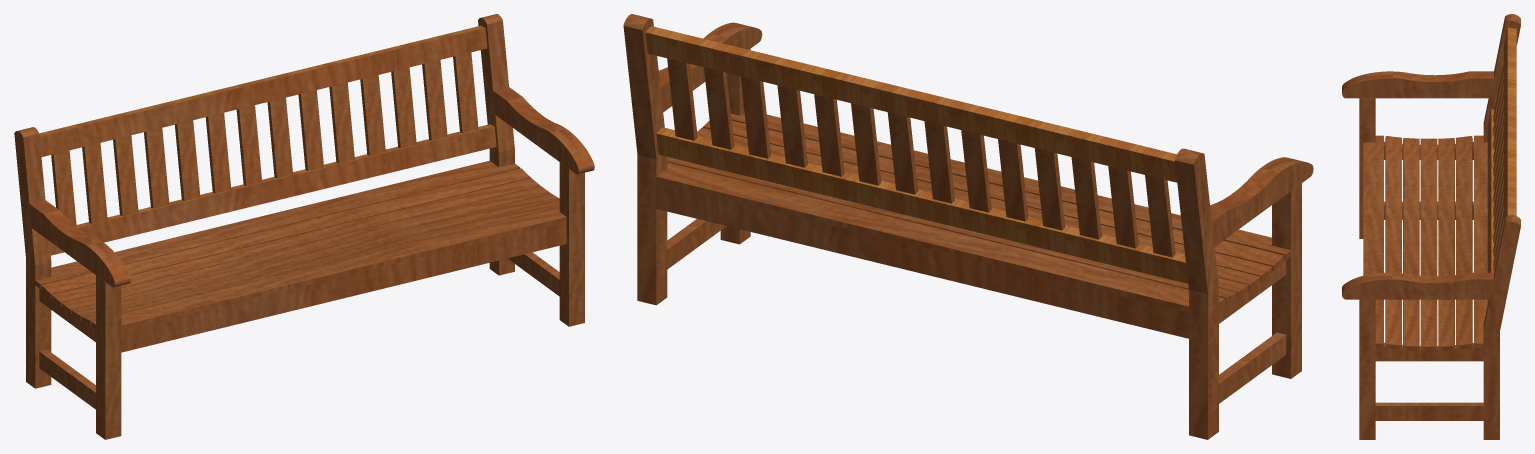
Rendered from bench.glb.
3 renders of one model, left to right at view 1: azimuth 30°, elevation 25°; view 2: azimuth 150°, elevation 25°; view 3: azimuth 270°, elevation 25°, orthographic. The views are drawn at different scales.
Visible parts, largest first — view 1: seat slat (×5), back vertical slat (×14), back stretch 6ft (×2), 6ft bottom rung, Merged End York - Mendip 80 incline (×2), Component#6 (×2), 6ft front, back 6ft, Arm contoured (×2), Component#3 (×2), seat rack; view 2: back stretch 6ft (×2), back vertical slat (×14), Merged End York - Mendip 80 incline (×2), 6ft bottom rung, back 6ft, seat slat (×3), Arm contoured (×2), Component#6 (×2), 6ft front, Component#3 (×2), seat rack; view 3: seat slat (×5), Arm contoured (×2), Merged End York - Mendip 80 incline (×2), Component#6 (×2), back stretch 6ft (×2), 6ft front, back 6ft, Component#3, seat rack.
Boxes of the visible parts, box(x1,y1,x2,y2) form: seat slat (×5): box(41, 168, 559, 325); back vertical slat (×14): box(51, 52, 478, 226); back stretch 6ft (×2): box(39, 25, 496, 255); 6ft bottom rung: box(121, 221, 566, 352); Merged End York - Mendip 80 incline (×2): box(14, 14, 514, 388); Component#6 (×2): box(96, 162, 584, 439); 6ft front: box(91, 207, 566, 330); back 6ft: box(35, 160, 520, 288); Arm contoured (×2): box(29, 87, 594, 287); Component#3 (×2): box(39, 252, 559, 409); seat rack: box(39, 288, 95, 341); back stretch 6ft (×2): box(645, 26, 1188, 283); back vertical slat (×14): box(667, 58, 1175, 257); Merged End York - Mendip 80 incline (×2): box(623, 14, 1218, 439); 6ft bottom rung: box(656, 182, 1188, 338); back 6ft: box(656, 162, 1225, 312); seat slat (×3): box(667, 120, 1284, 303); Arm contoured (×2): box(658, 22, 1313, 246); Component#6 (×2): box(720, 49, 1301, 378); 6ft front: box(731, 112, 1290, 259); Component#3 (×2): box(667, 219, 1286, 403); seat rack: box(1219, 260, 1286, 323); seat slat (×5): box(1385, 136, 1472, 350); Arm contoured (×2): box(1342, 71, 1493, 299); Merged End York - Mendip 80 incline (×2): box(1483, 14, 1520, 439); Component#6 (×2): box(1359, 98, 1375, 439); back stretch 6ft (×2): box(1487, 27, 1516, 302); 6ft front: box(1363, 135, 1383, 347); back 6ft: box(1474, 135, 1487, 347); Component#3: box(1375, 402, 1483, 420); seat rack: box(1375, 342, 1483, 361).
Size of the model in its own units: 1.8 by 0.8796 by 0.6545.
2 materials, 2 textured.
